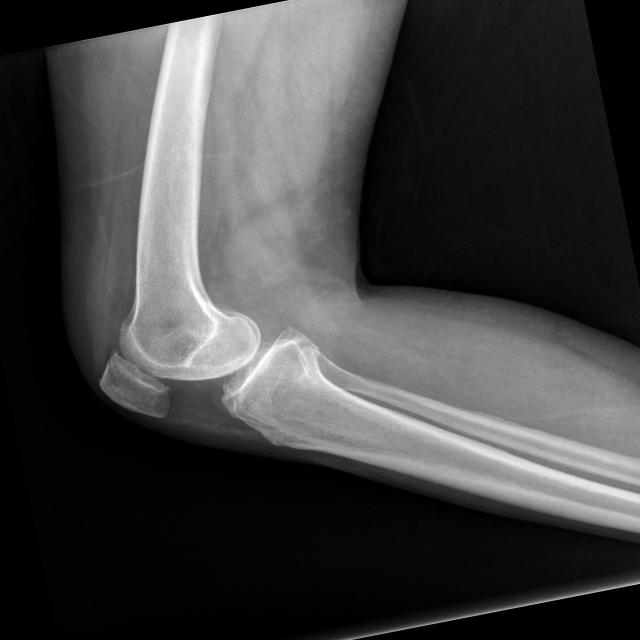Knee: (84, 288, 326, 461)
